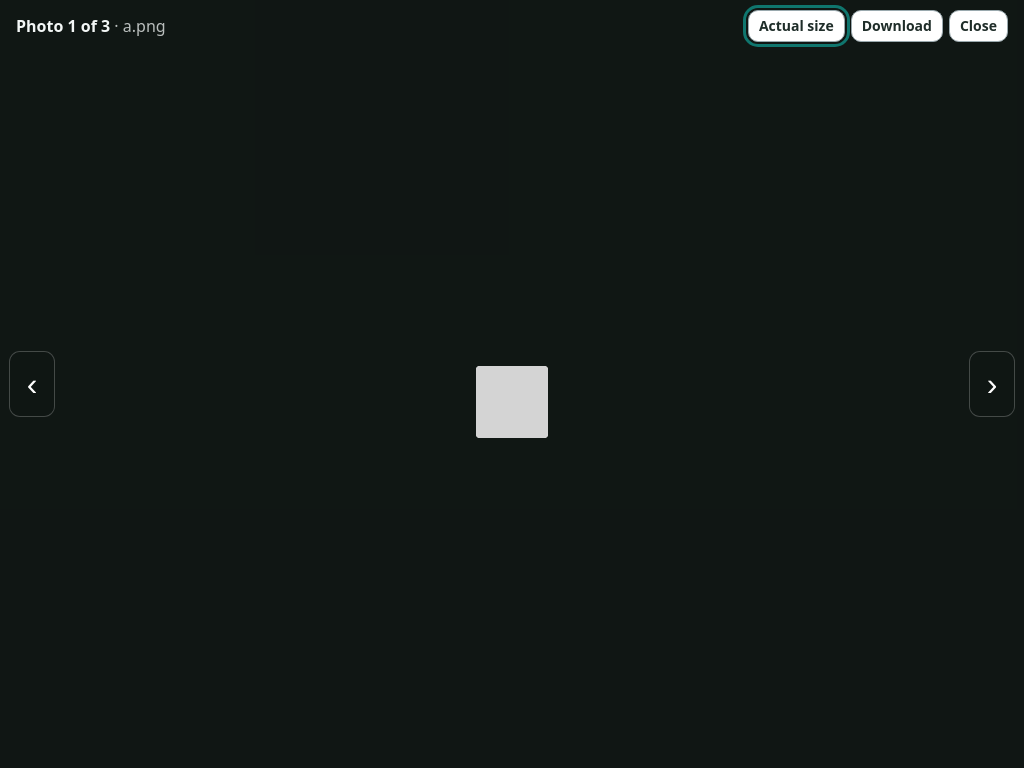
moves between several photos with buttons and arrow keys, wrapping round
expect the text "Photo 1 of 3" is shown: met, box [16,15,110,37]
Click the button named "Next photo": (992, 384) [970,352,1014,416]
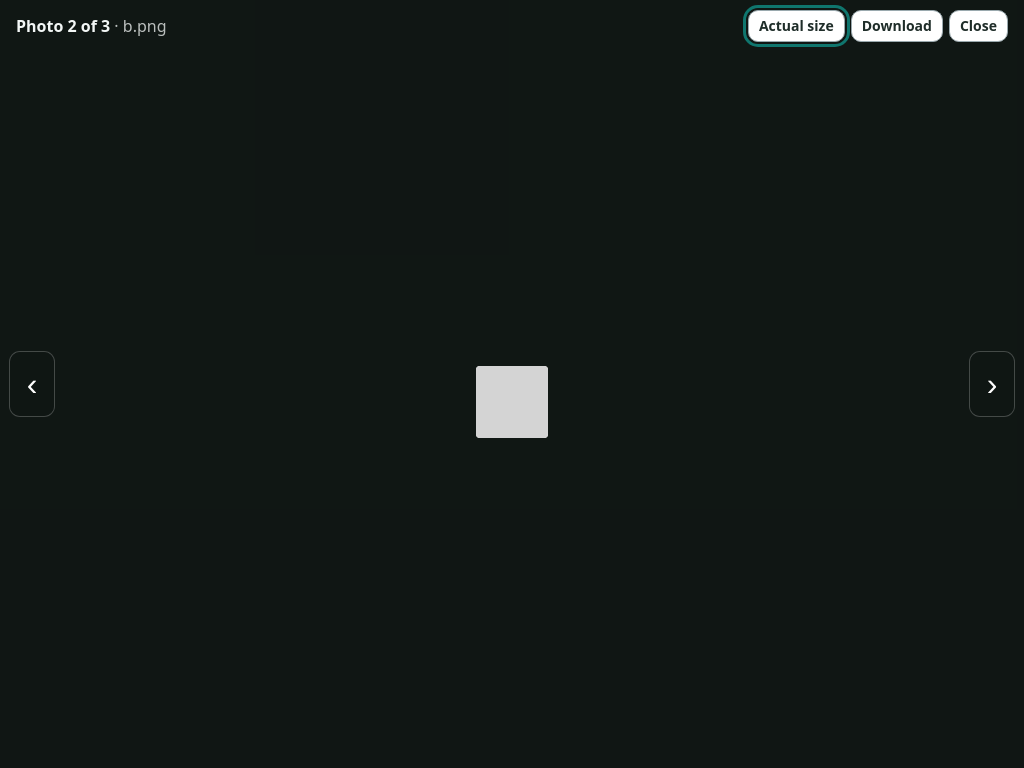
Press ArrowRight in the dialog named "Photo viewer"
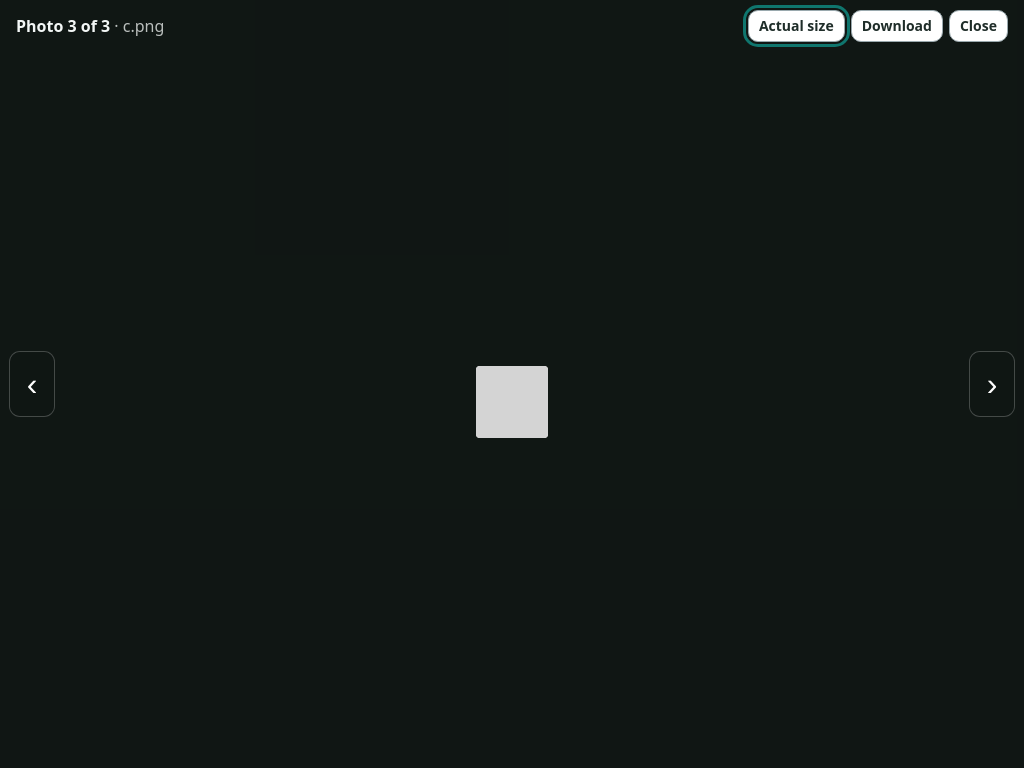
Press ArrowRight in the dialog named "Photo viewer"
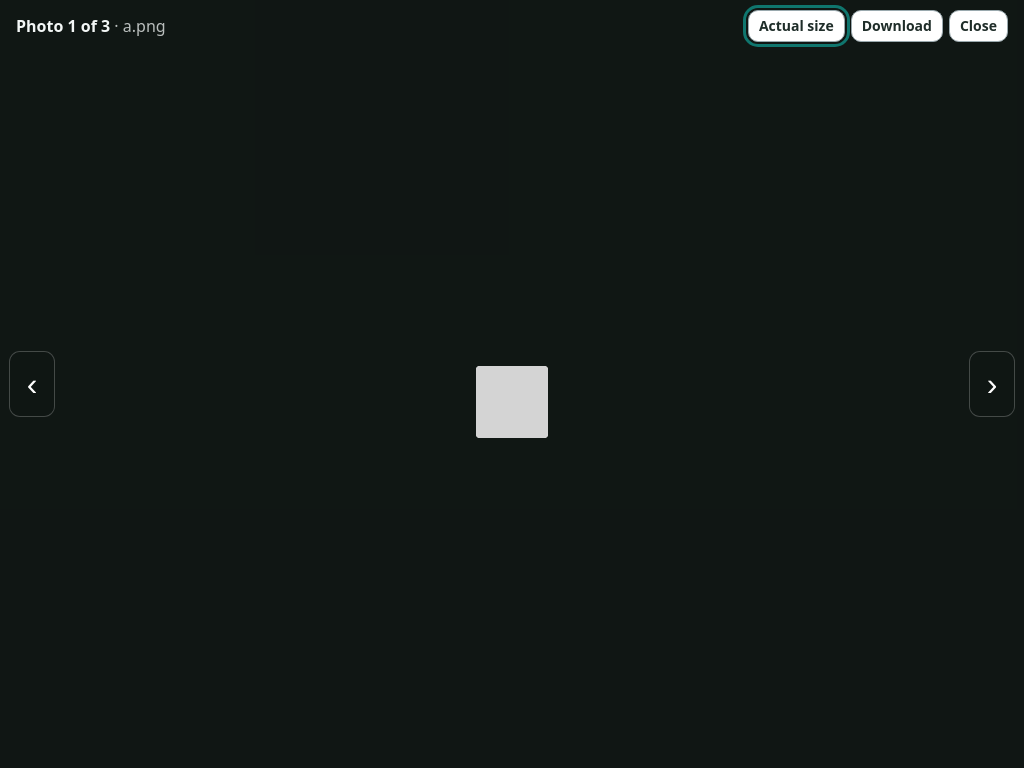
Click the button named "Previous photo": (32, 384) [10,352,54,416]
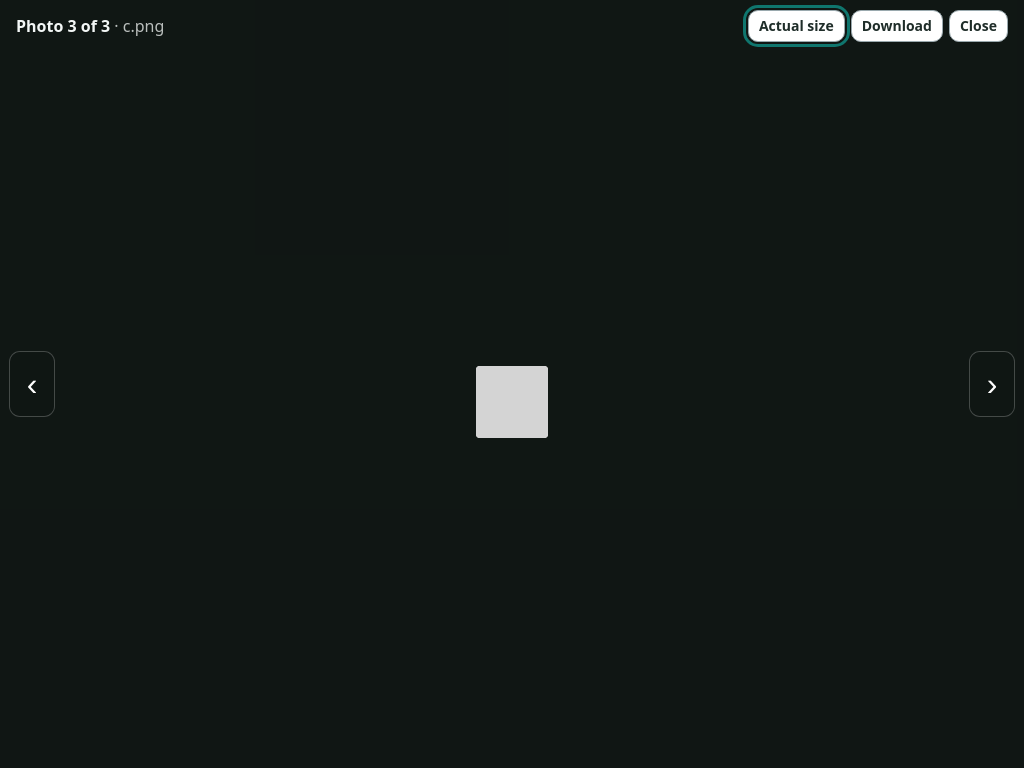
expect the text "Photo 3 of 3" is shown: met, box [16,15,110,37]
